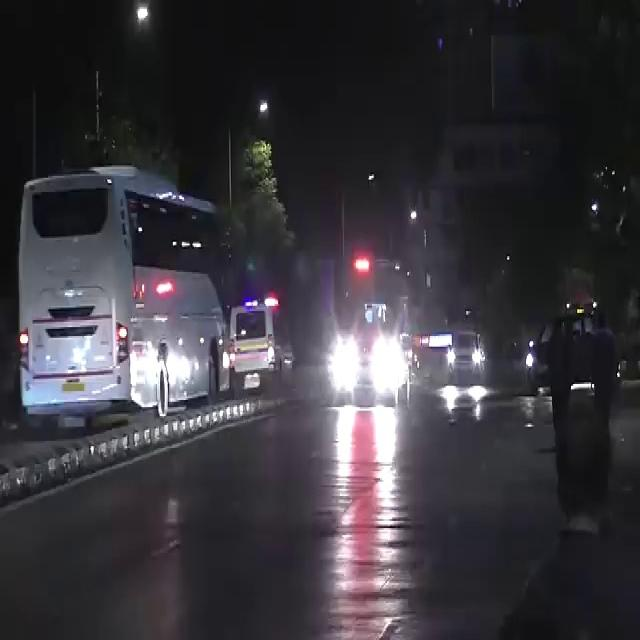ambulance: (335, 248, 425, 426)
